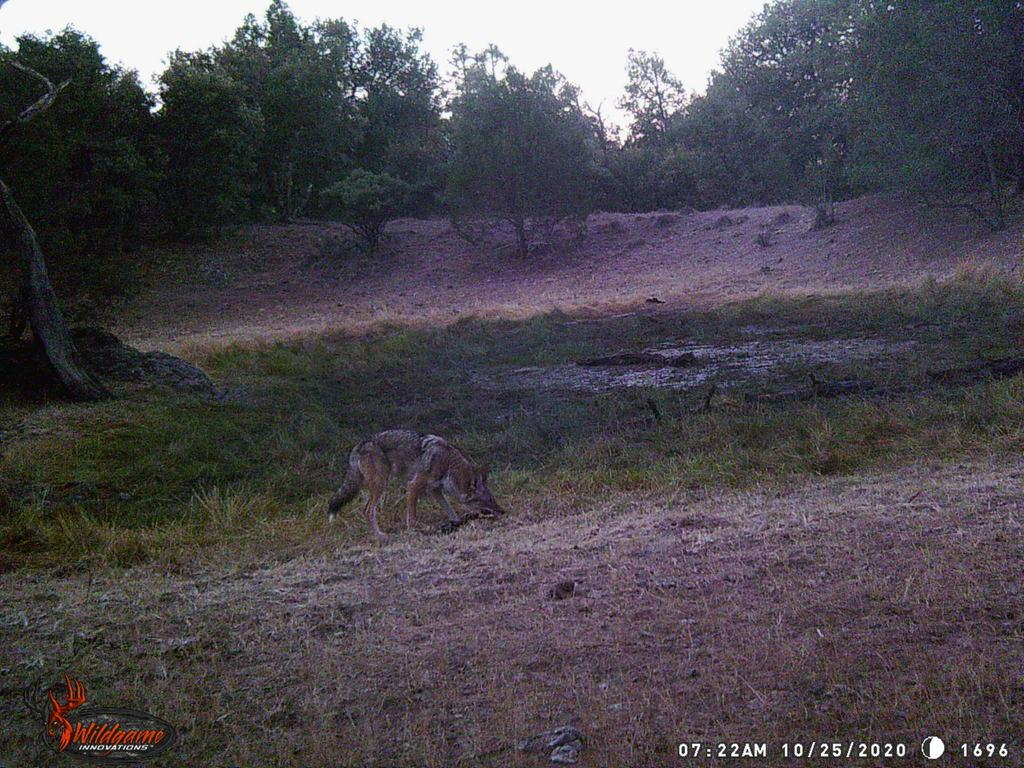Coyote: (322, 427, 511, 540)
